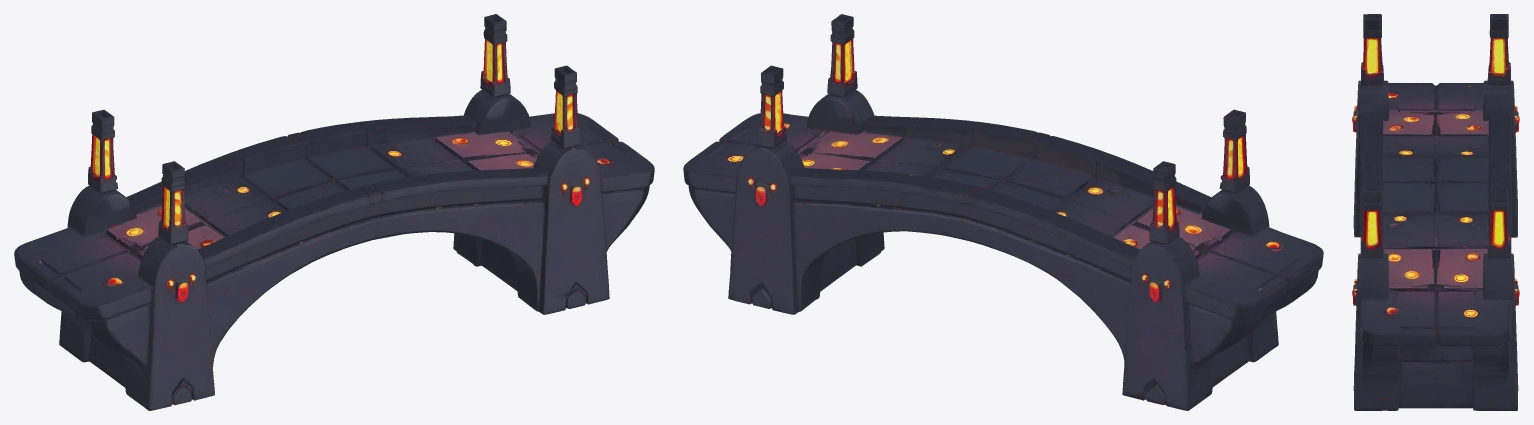
Rendered from volcano-bridge.glb.
The picture shows the model from 3 angles, left to right: view 1: azimuth 30°, elevation 25°; view 2: azimuth 150°, elevation 25°; view 3: azimuth 270°, elevation 25°; orthographic projection. The views are drawn at different scales.
Parts seen in each view (by area): view 1: Mesh_0; view 2: Mesh_0; view 3: Mesh_0.
Boxes of the visible parts, bbox=[...] form: Mesh_0: bbox=[14, 14, 654, 410]; Mesh_0: bbox=[683, 14, 1323, 410]; Mesh_0: bbox=[1352, 14, 1519, 410].
Size of the model in its own units: 1.9 by 0.7277 by 0.5345.
Materials: 1 (1 with a texture image).
